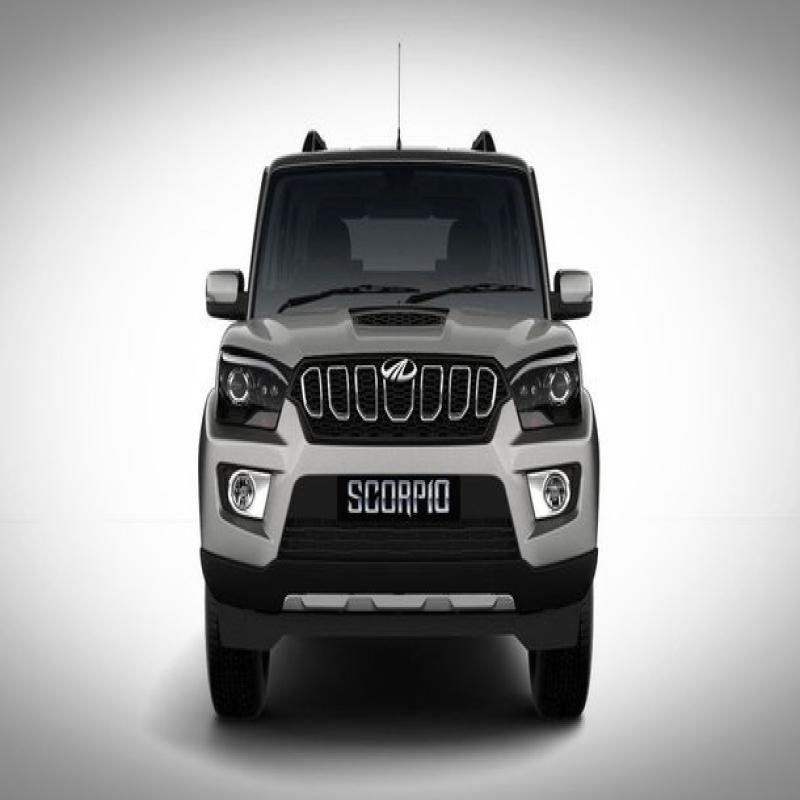car: (184, 89, 661, 758)
